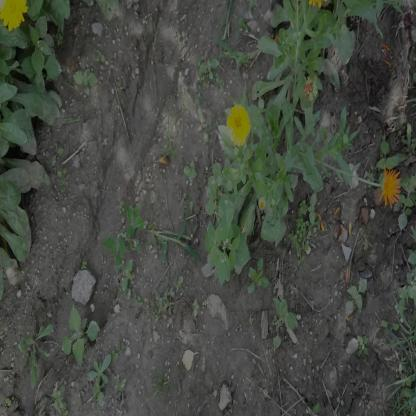marigold: (228, 102, 251, 144), (0, 0, 28, 30), (378, 167, 399, 206)
